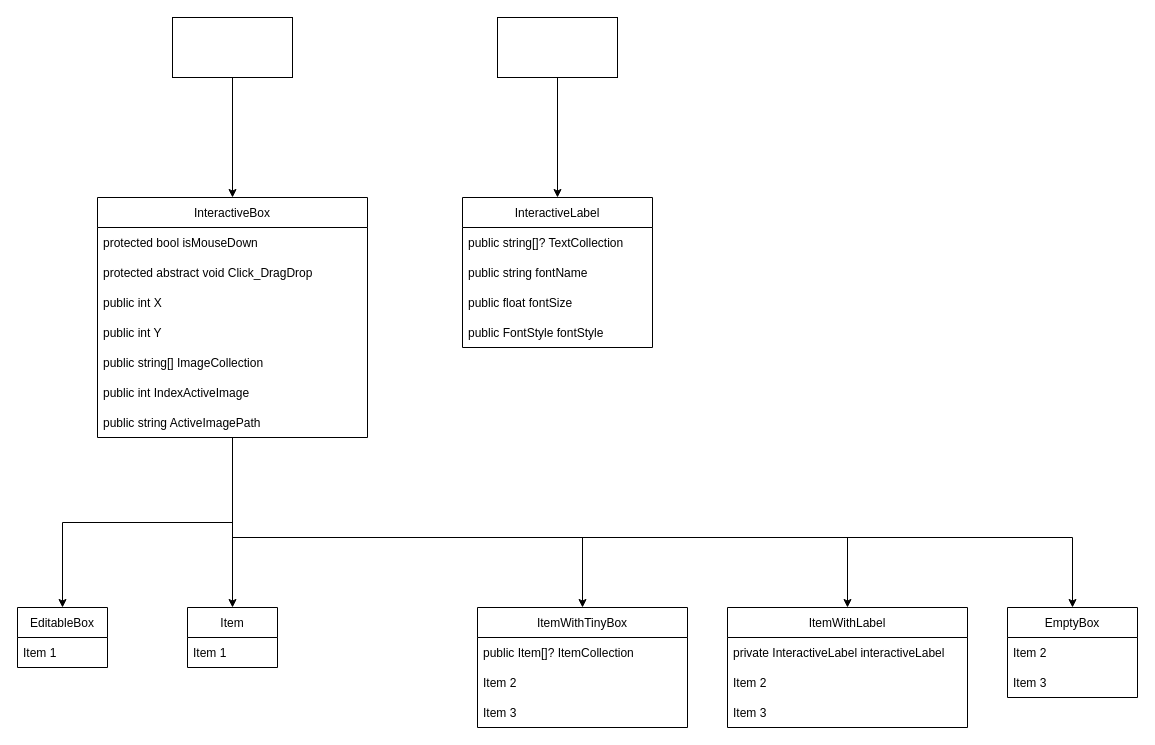
This 1155x745 diagram has some shape labels left out. Here are the shapes that lost their labels. From the top down, the centre of each, then its label:
(x=232, y=47): PictureBox
(x=557, y=47): Label
